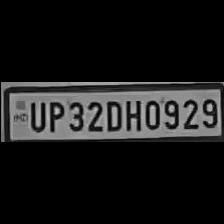0: (142, 96, 160, 130)
2: (84, 97, 103, 132), (180, 96, 198, 130)
3: (64, 98, 84, 132)
9: (160, 96, 180, 130), (198, 96, 218, 128)
D: (104, 97, 122, 132)
H: (122, 97, 142, 132)
P: (44, 99, 64, 134)
U: (26, 98, 44, 132)
